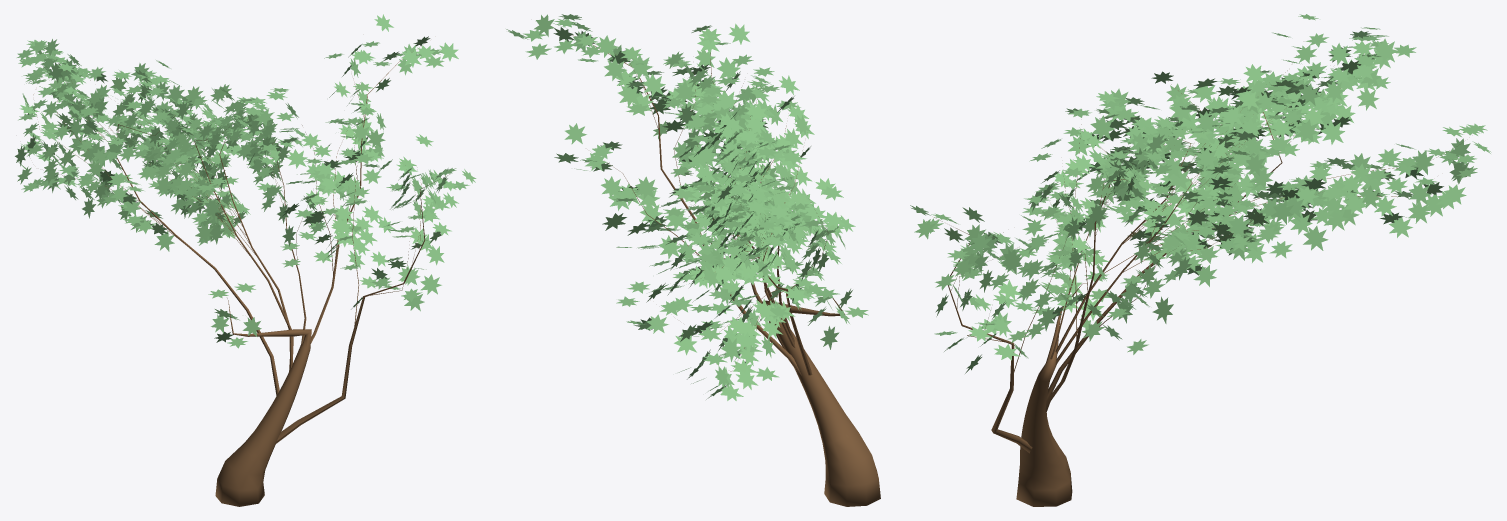
File: acer-palmatum-bonsai-informal-v4.glb
3 renders of one model, left to right at view 1: azimuth 30°, elevation 25°; view 2: azimuth 150°, elevation 25°; view 3: azimuth 270°, elevation 25°, orthographic. The views are drawn at different scales.
Parts seen in each view (by area): view 1: ToonlabTree; view 2: ToonlabTree; view 3: ToonlabTree.
Part boxes in pixels (x1=…): ToonlabTree: x1=15, y1=14, x2=476, y2=506; ToonlabTree: x1=506, y1=14, x2=880, y2=506; ToonlabTree: x1=910, y1=14, x2=1491, y2=506.
Size of the model in its own units: 3.15 by 3.33 by 3.75.
